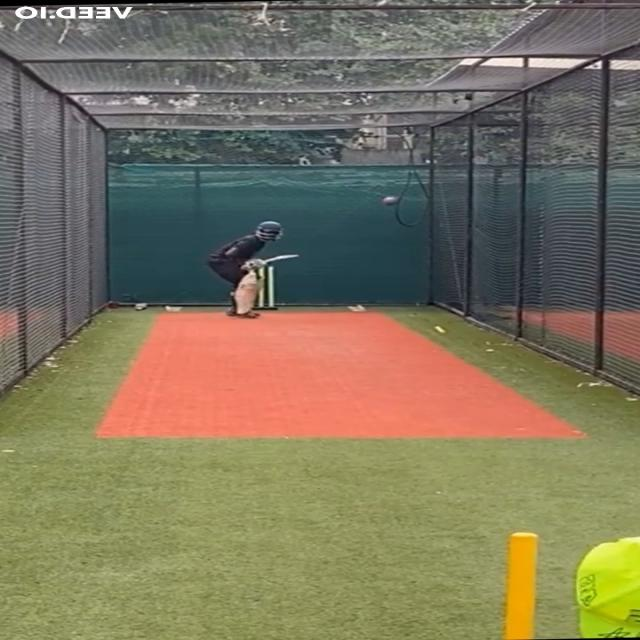ball: (379, 194, 401, 208)
stump: (253, 264, 278, 311)
